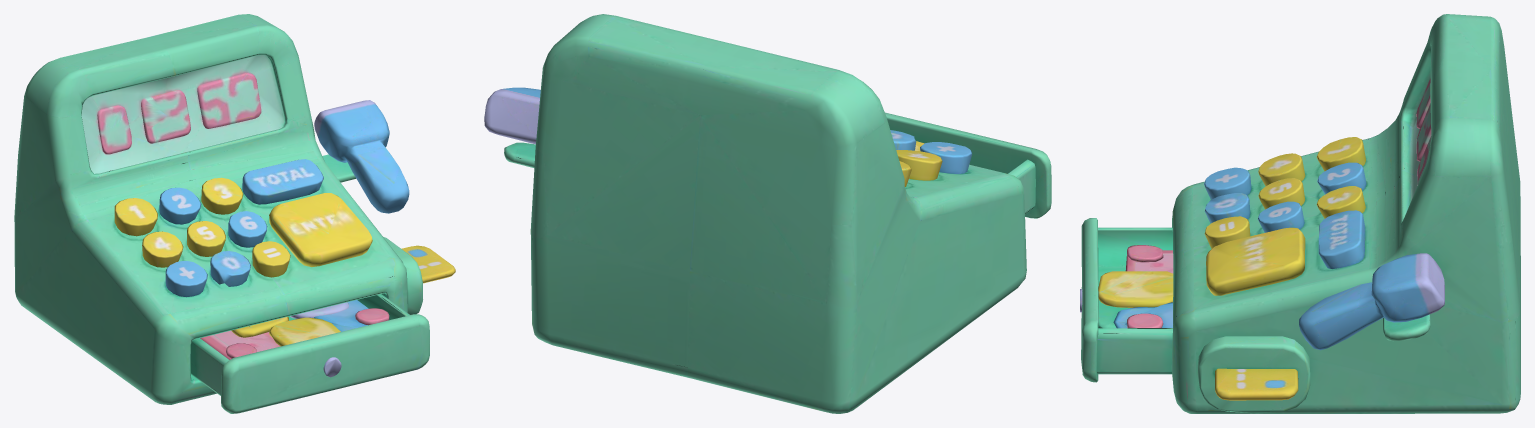
File: cash-register.glb
The picture shows the model from 3 angles, left to right: view 1: azimuth 30°, elevation 25°; view 2: azimuth 150°, elevation 25°; view 3: azimuth 270°, elevation 25°; orthographic projection. The views are drawn at different scales.
Parts seen in each view (by area): view 1: geometry_0; view 2: geometry_0; view 3: geometry_0.
Part boxes in pixels (x1=…): geometry_0: x1=14, y1=14, x2=455, y2=413; geometry_0: x1=484, y1=14, x2=1051, y2=413; geometry_0: x1=1080, y1=14, x2=1520, y2=413.
Size of the model in its own units: 0.9728 by 0.7025 by 1.
Materials: 1 (1 with a texture image).
